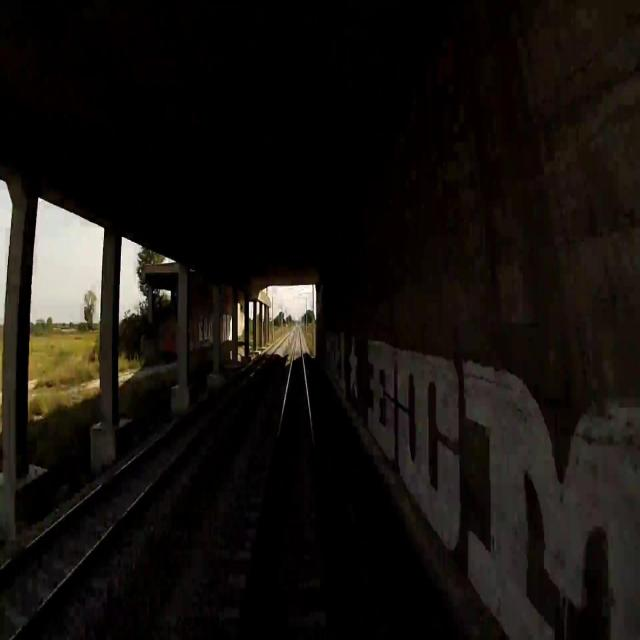rail-track: (0, 347, 273, 639), (249, 335, 329, 639)
